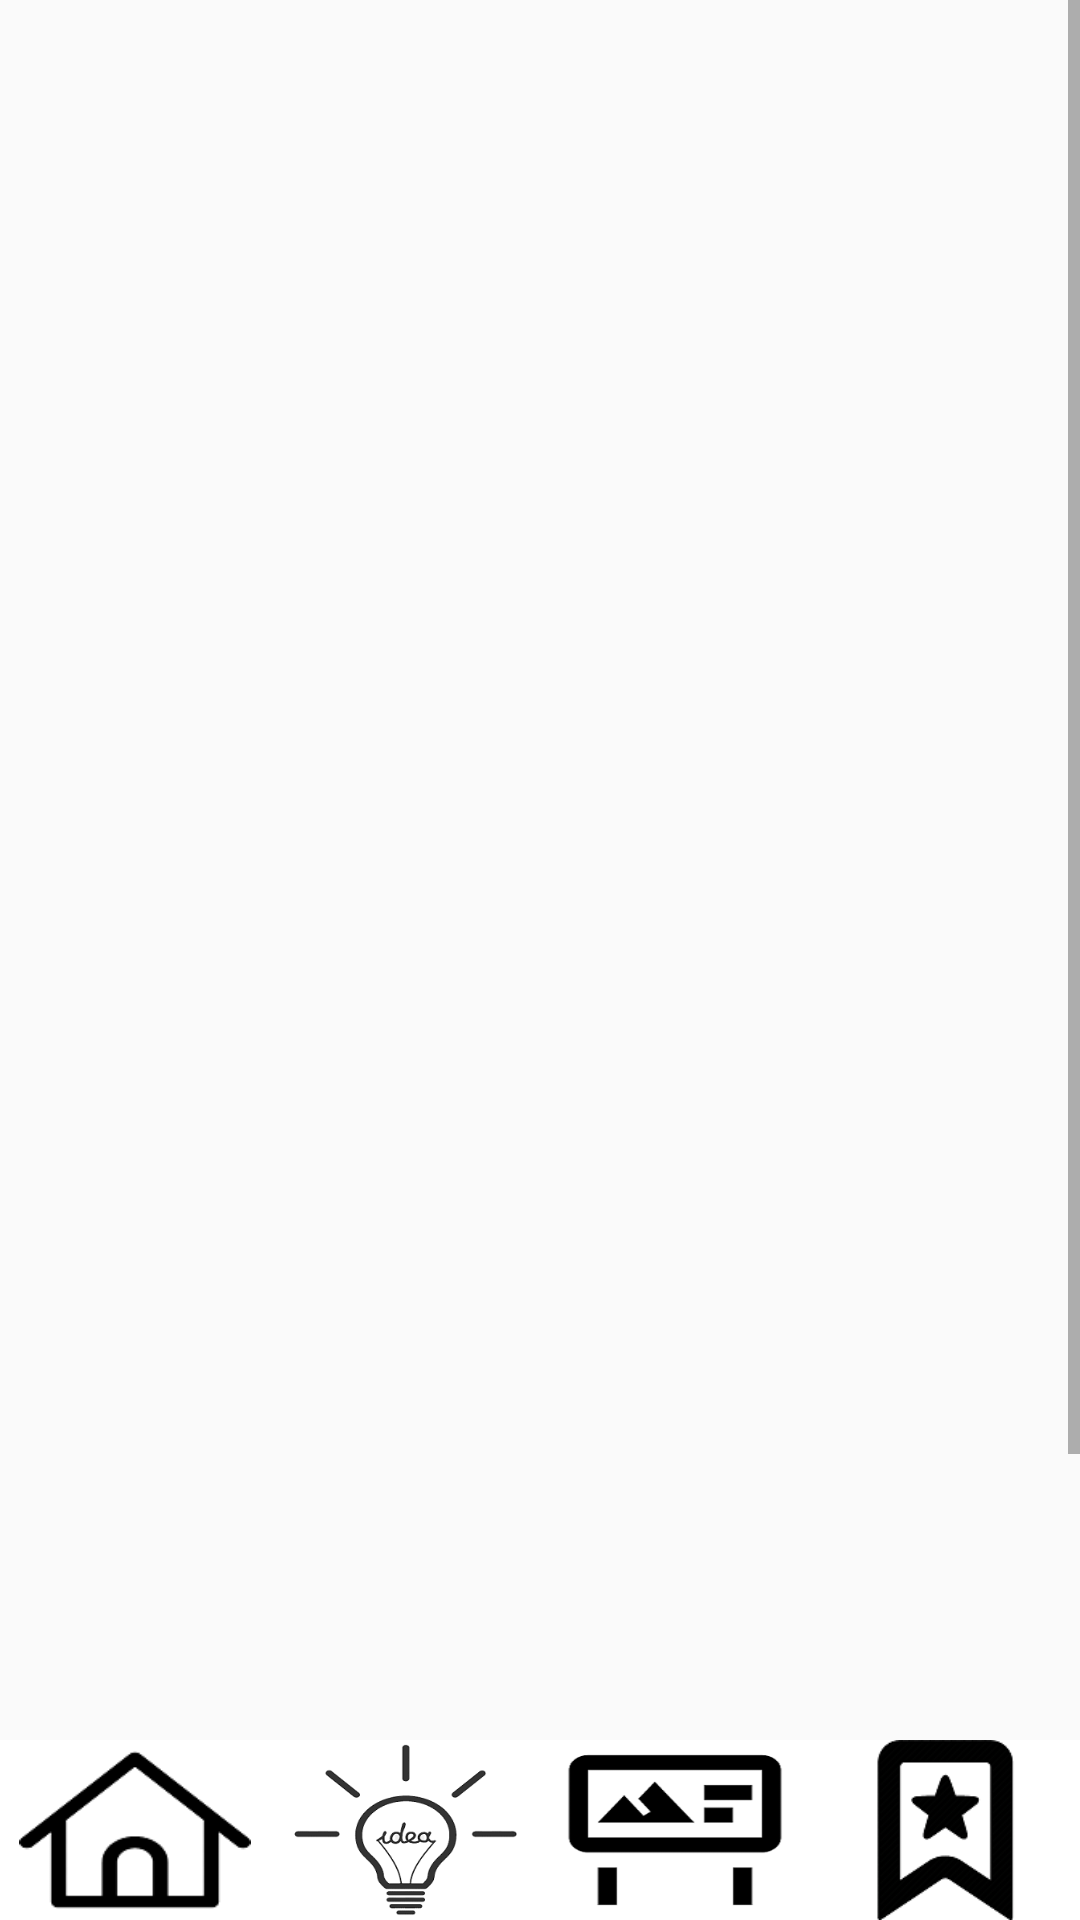

Icon bounding boxes for this 1080×1920 phone screenshot, format (x1, y1, x2, y2):
bottom bookmark: (877, 1740, 1013, 1920)
bottom goodtip: (294, 1745, 517, 1915)
bottom hometap: (19, 1751, 251, 1909)
